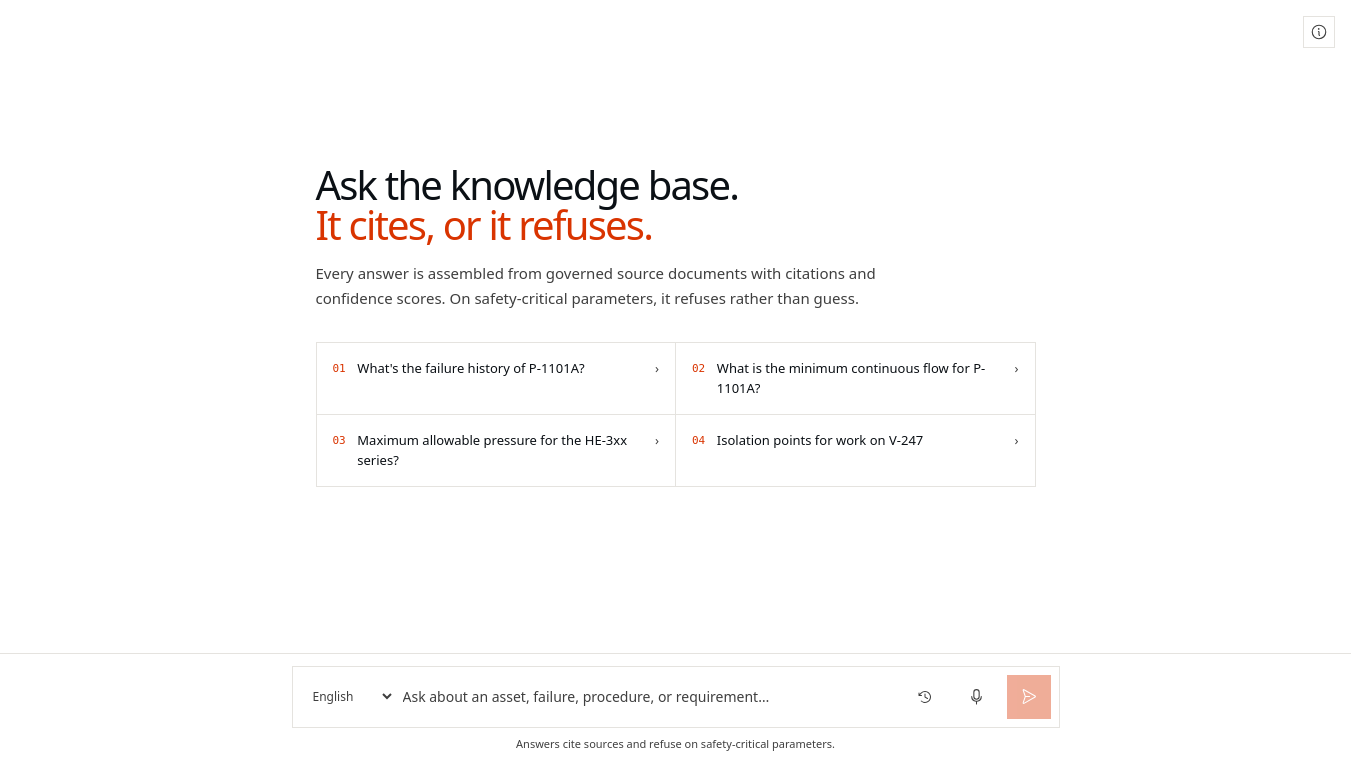
CopilotPage › drops a late answer from a conversation the user already left with New chat
Click the button "01 What's the failure history of P-1101A? ›": (496, 379) [316,343,676,415]
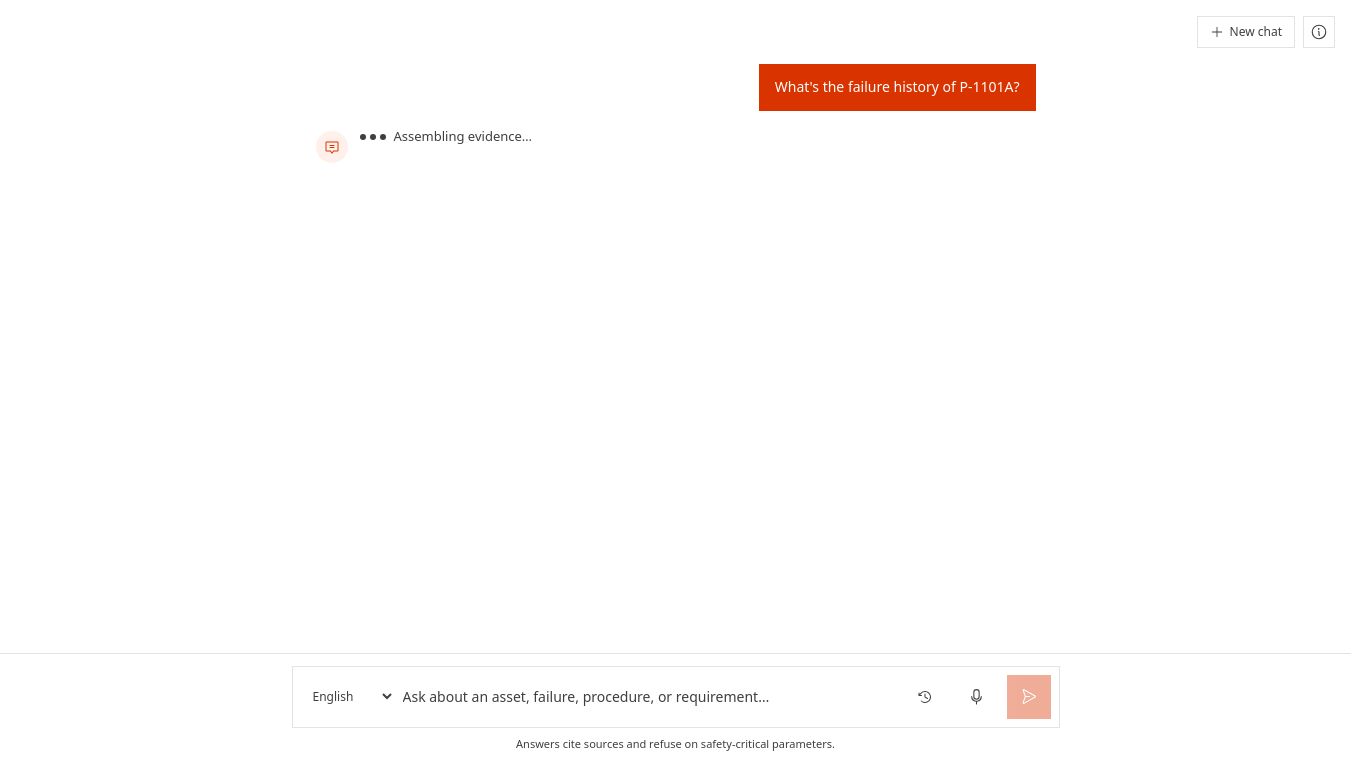
Click the button with aria-label "Start a new chat": (1246, 32) [1196,16,1295,48]
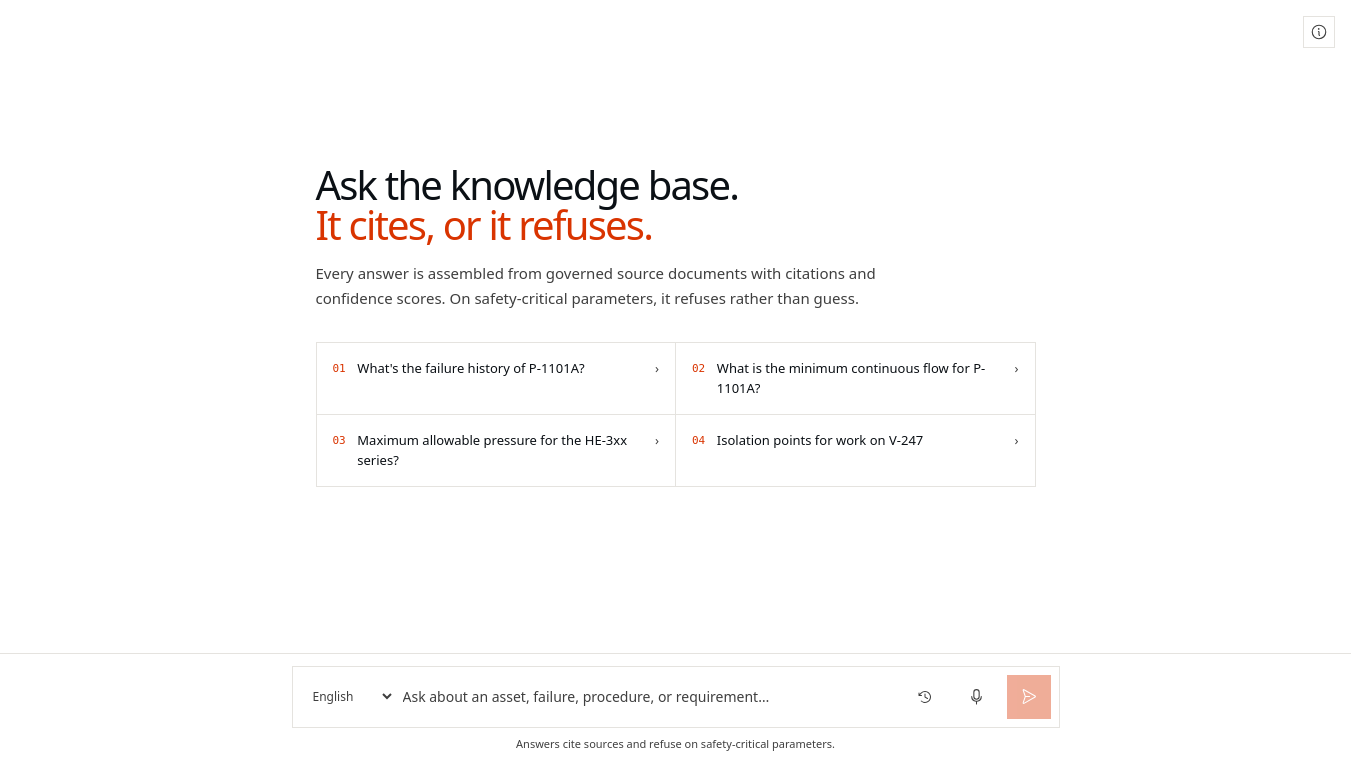
Click the button "02 What is the minimum continuous flow for P-1101A? ›": (856, 379) [676,343,1036,415]
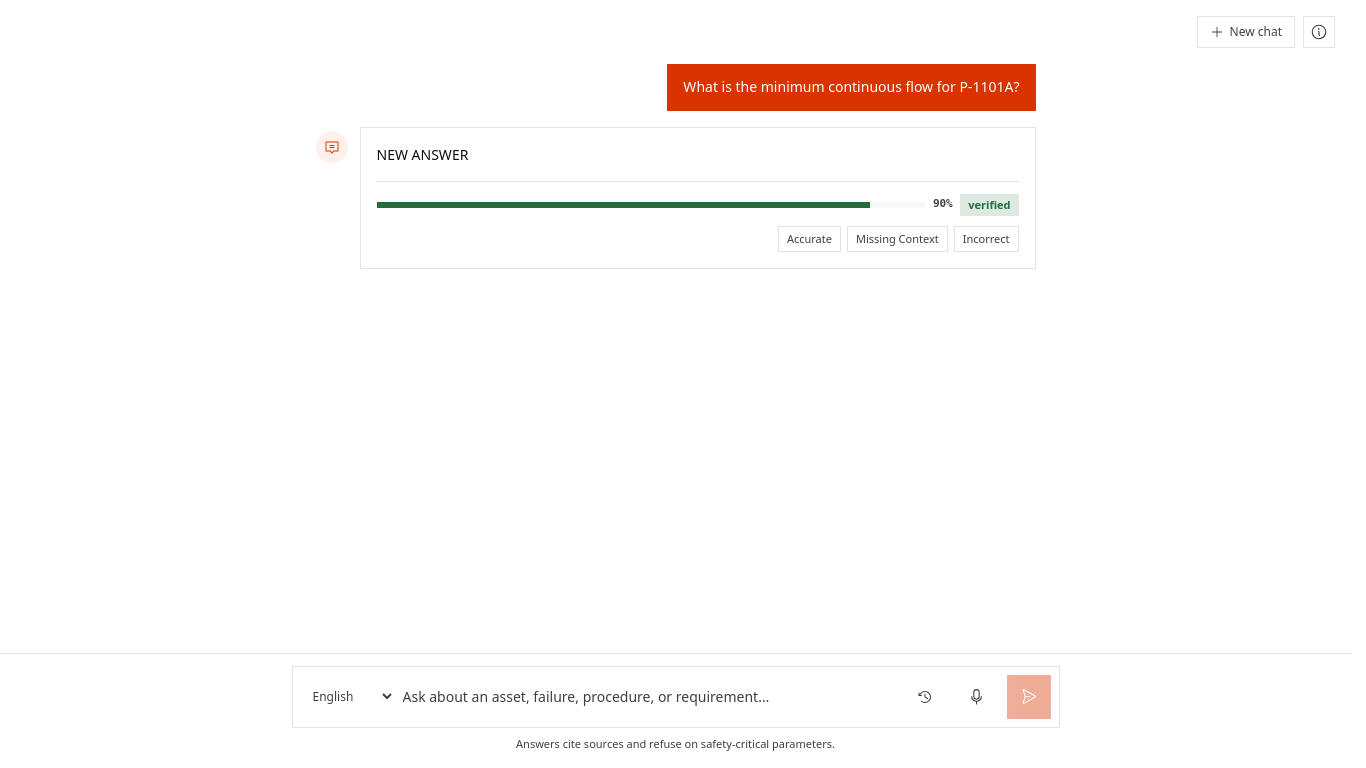
Check: the text "NEW ANSWER" is shown, box [376,145,468,164]
